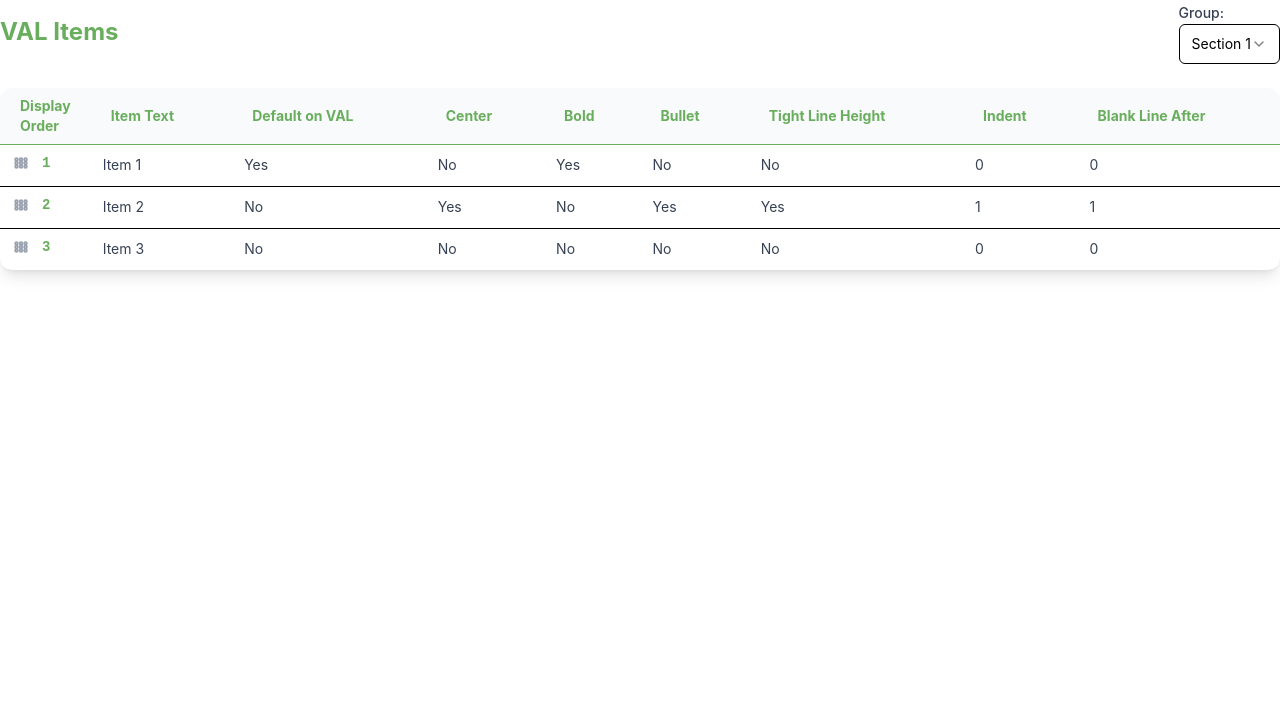
Test: ManageValItems › opens edit dialog when row is clicked
The width and height of the screenshot is (1280, 720).
What coordinates should you click on to do the following:
click the text "Item 1"
I would click on:
 (122, 164)
Its box is left=91, top=144, right=232, bottom=186.
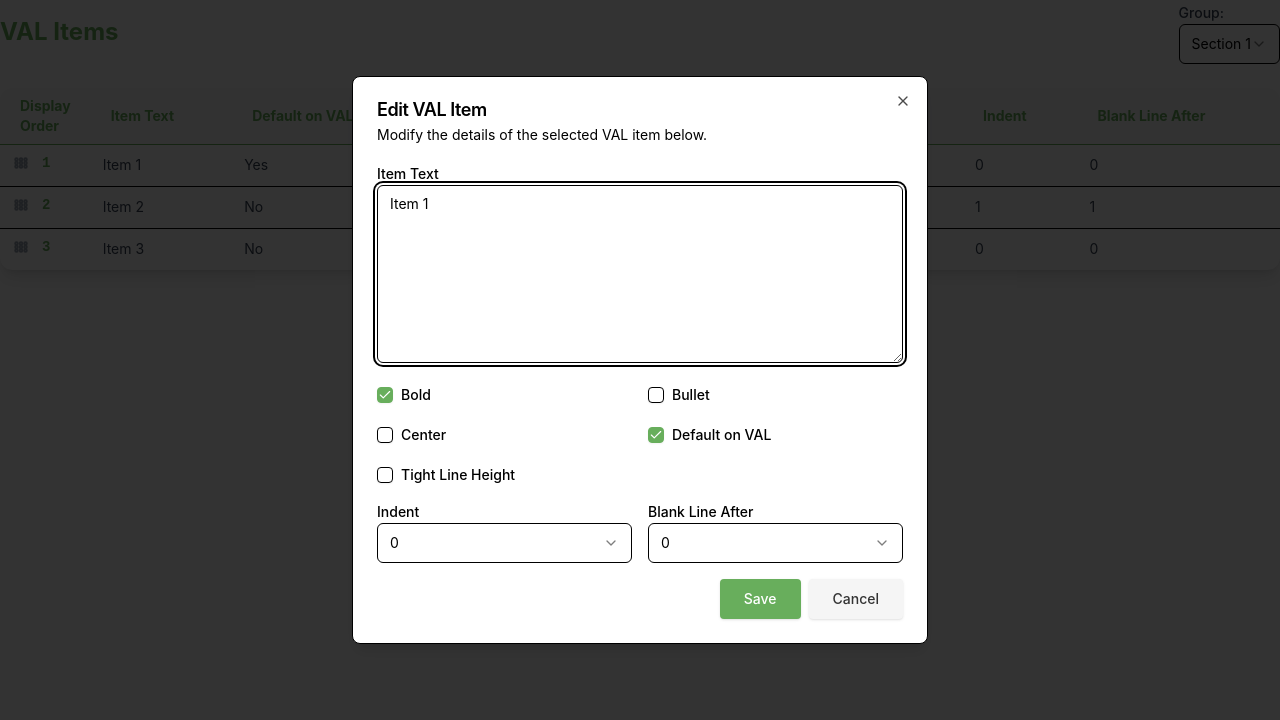
Now the heading "Edit VAL Item" is shown, box left=377, top=99, right=487, bottom=120
Now the 1st checkbox named "Bold" is shown, box left=377, top=387, right=393, bottom=403
Now the 2nd checkbox named "Bullet" is shown, box left=648, top=387, right=664, bottom=403
